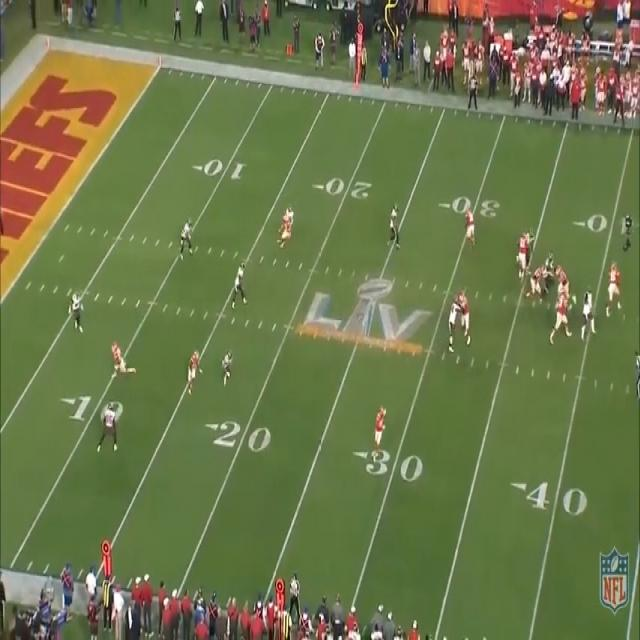players: (92, 402, 122, 456), (370, 397, 391, 464), (385, 193, 406, 254), (457, 286, 476, 353), (604, 252, 624, 315), (276, 198, 300, 246), (582, 278, 599, 344), (218, 341, 240, 389), (68, 289, 89, 338), (109, 332, 130, 381), (178, 210, 195, 263), (556, 286, 570, 349), (556, 259, 574, 308), (462, 202, 477, 258), (231, 262, 249, 308), (447, 292, 460, 353), (528, 263, 548, 301), (518, 228, 531, 284), (187, 347, 202, 395)
